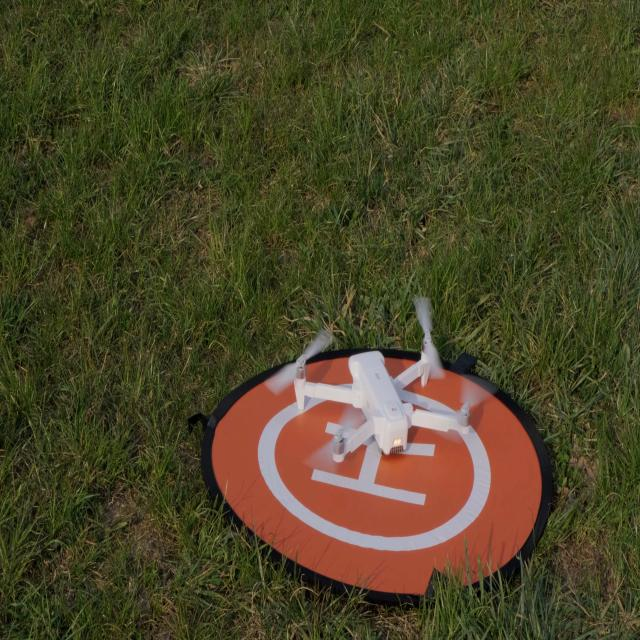drone: (293, 295, 471, 464)
